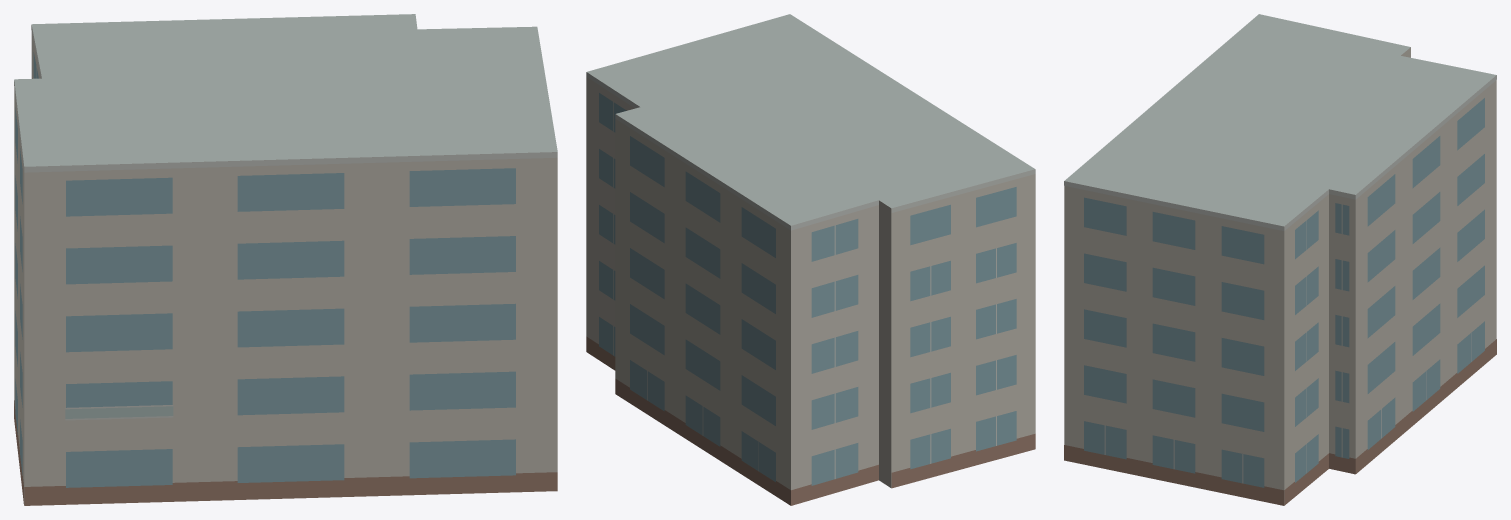
Rendered from survey-upis-32885222.glb.
3 renders of one model, left to right at view 1: azimuth 30°, elevation 25°; view 2: azimuth 150°, elevation 25°; view 3: azimuth 270°, elevation 25°, orthographic. The views are drawn at different scales.
Visible parts, largest first — view 1: survey-upis-32885222.tmp; view 2: survey-upis-32885222.tmp; view 3: survey-upis-32885222.tmp.
Boxes of the visible parts, x1=… form: survey-upis-32885222.tmp: x1=14, y1=14, x2=557, y2=505; survey-upis-32885222.tmp: x1=586, y1=14, x2=1035, y2=505; survey-upis-32885222.tmp: x1=1064, y1=14, x2=1496, y2=505.
Bounding box in the file's own units: 23.33 × 14.3 × 20.08.
